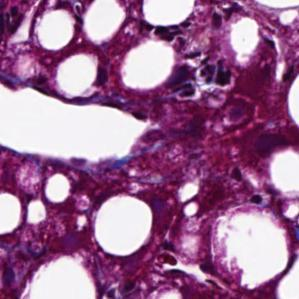inflammation: (180, 52, 240, 108)
